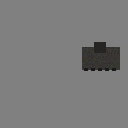armoured_vehicle: (82, 47, 120, 70)
